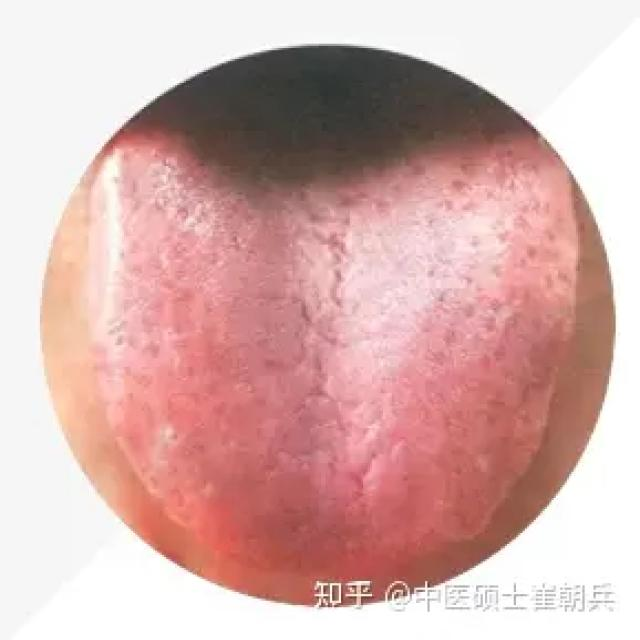tongue: (97, 139, 578, 555)
